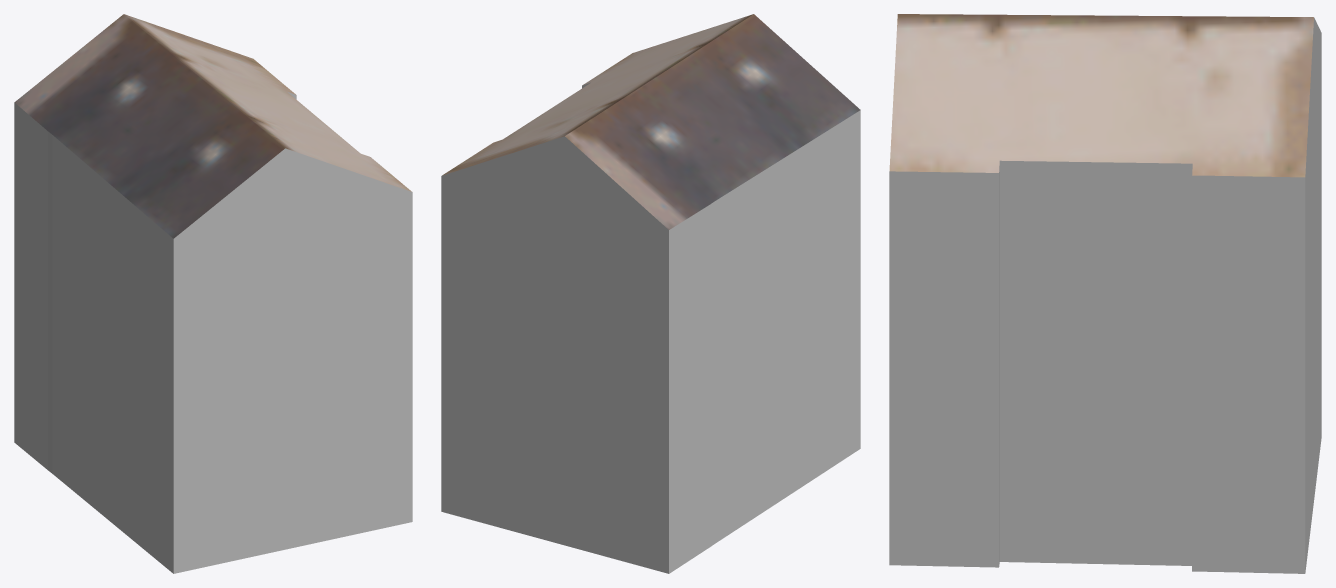
The model's file is DEBW_0010007Tx6E.gltf.
The picture shows the model from 3 angles, left to right: view 1: azimuth 30°, elevation 25°; view 2: azimuth 150°, elevation 25°; view 3: azimuth 270°, elevation 25°; orthographic projection. The views are drawn at different scales.
Parts seen in each view (by area): view 1: Z_UP; view 2: Z_UP; view 3: Z_UP.
Boxes of the visible parts, bbox=[...] form: Z_UP: bbox=[14, 14, 412, 573]; Z_UP: bbox=[441, 14, 860, 573]; Z_UP: bbox=[889, 14, 1321, 573].
Bounding box in the file's own units: 10.55 × 16.5 × 13.36.
Materials: 2 (1 with a texture image).
